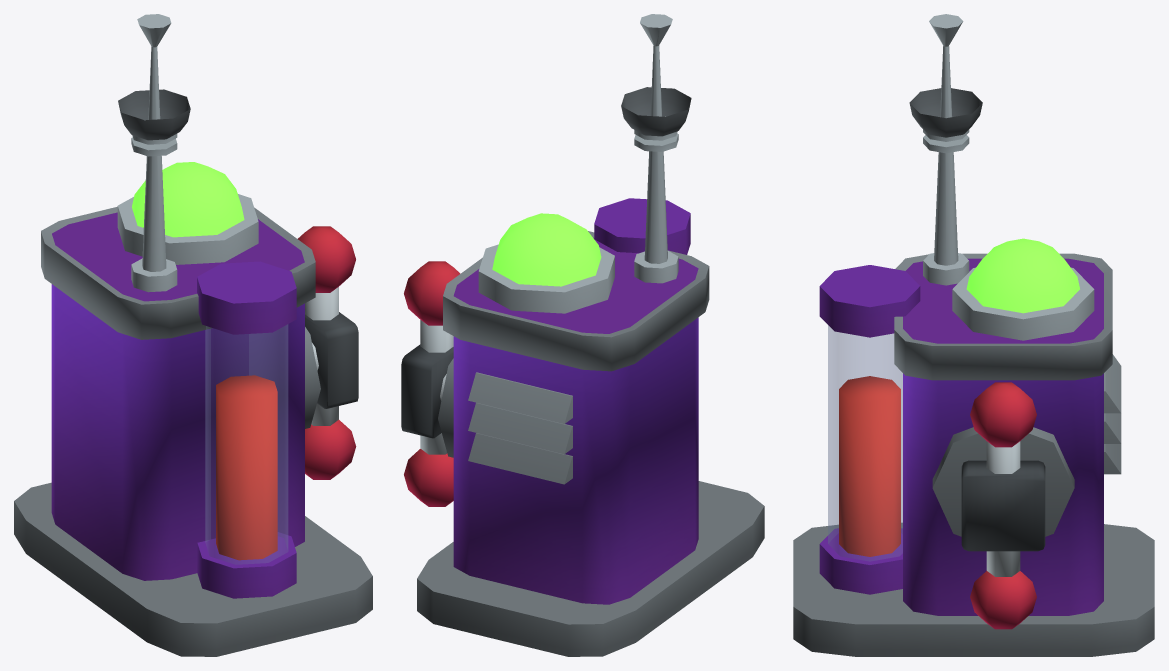
File: LongSwitch.glb
3 views of the same model, side by side, from view 1: azimuth 30°, elevation 25°; view 2: azimuth 150°, elevation 25°; view 3: azimuth 270°, elevation 25° (orthographic). The views are drawn at different scales.
Visible parts, largest first — view 1: LongSwitchBase, GlassProgressBar, ProgressBar, Handle; view 2: LongSwitchBase, Handle; view 3: LongSwitchBase, GlassProgressBar, Handle, ProgressBar.
Part boxes in pixels (x1,y1,x2,y2): LongSwitchBase: (14,14,372,656); GlassProgressBar: (205,324,287,564); ProgressBar: (216,375,277,560); Handle: (298,226,358,479); LongSwitchBase: (417,14,764,656); Handle: (401,261,460,506); LongSwitchBase: (793,14,1154,656); GlassProgressBar: (828,325,902,561); Handle: (961,382,1045,629); ProgressBar: (839,376,900,556).
Size of the model in its own units: 1.85 by 3.68 by 2.16.
4 materials, 1 textured.
